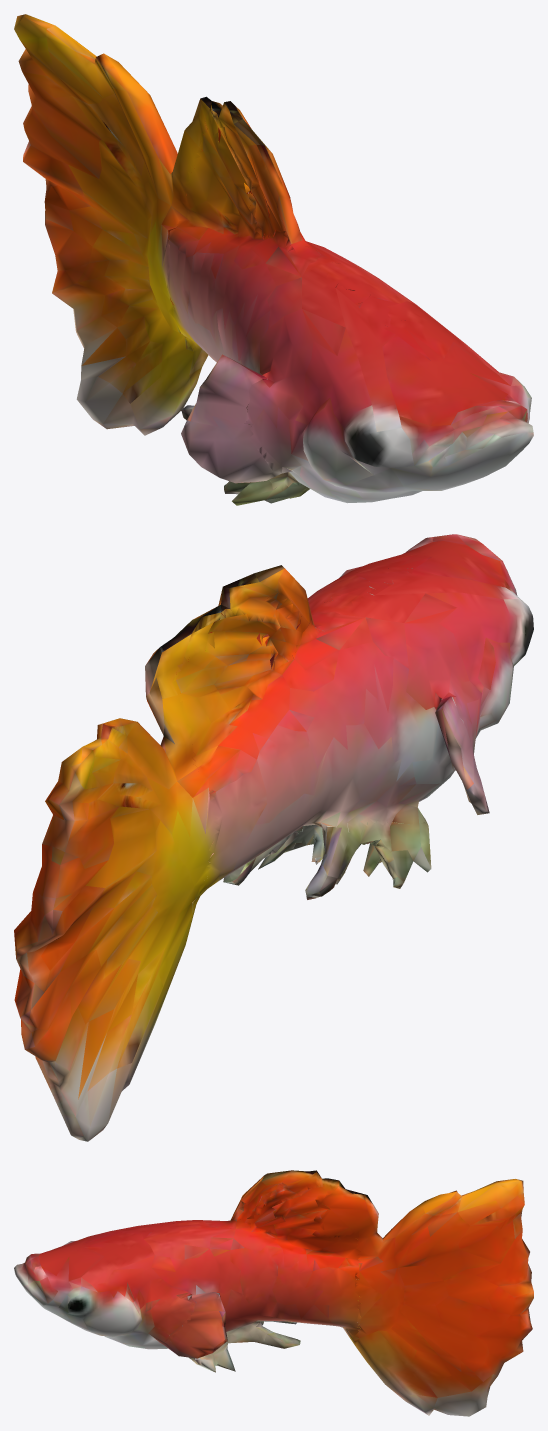
Rendered from strain-moscow_red_fan.lo.glb.
3 renders of one model, top to bottom at view 1: azimuth 30°, elevation 25°; view 2: azimuth 150°, elevation 25°; view 3: azimuth 270°, elevation 25°, orthographic. The views are drawn at different scales.
Parts seen in each view (by area): view 1: Mesh_0.001; view 2: Mesh_0.001; view 3: Mesh_0.001.
Boxes of the visible parts, bbox=[...] form: Mesh_0.001: bbox=[14, 14, 533, 505]; Mesh_0.001: bbox=[14, 534, 533, 1141]; Mesh_0.001: bbox=[14, 1170, 533, 1416].
Size of the model in its own units: 0.0114 by 0.0172 by 0.0332.
2 materials, 2 textured.
